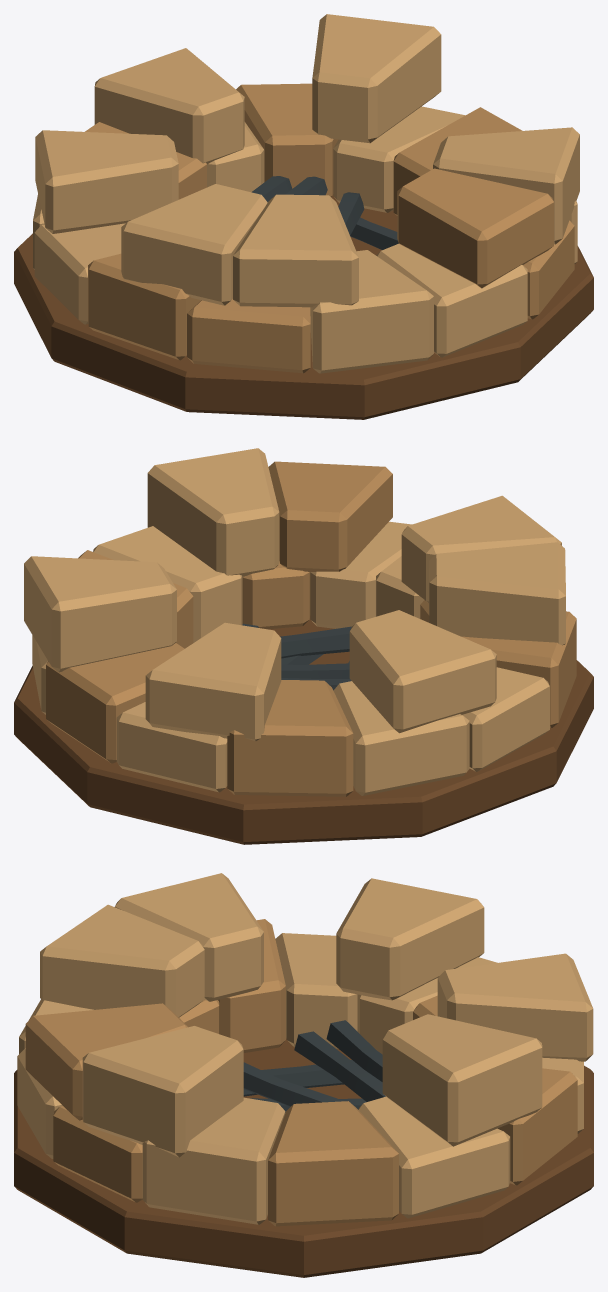
File: bonfire_a_706.gltf
3 views of the same model, one above another, from view 1: azimuth 30°, elevation 25°; view 2: azimuth 150°, elevation 25°; view 3: azimuth 270°, elevation 25° (orthographic). The views are drawn at different scales.
Visible parts, largest first — view 1: bonfire_a002; view 2: bonfire_a002; view 3: bonfire_a002.
Boxes of the visible parts, <box> form: bonfire_a002: <box>14,14,593,419</box>; bonfire_a002: <box>14,448,593,844</box>; bonfire_a002: <box>14,873,593,1277</box>.
Bounding box in the file's own units: 1.28 × 0.4192 × 1.22.
Materials: 1 (1 with a texture image).
